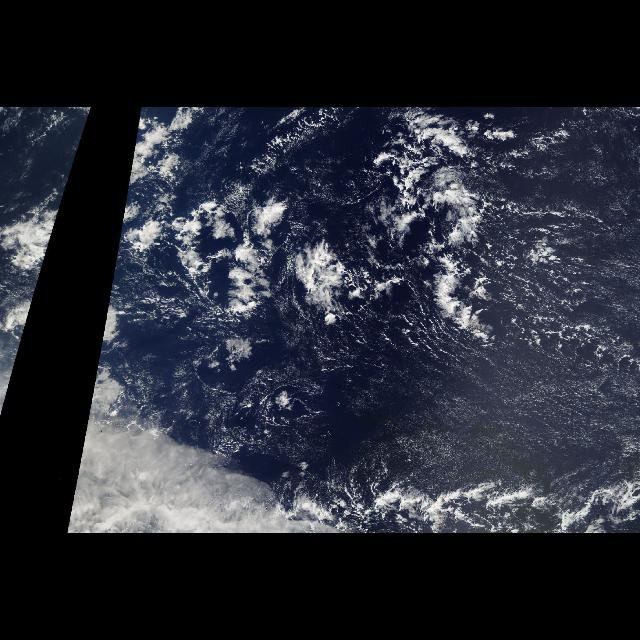Gravel: (362, 110, 640, 368), (154, 192, 306, 438)
Sugar: (300, 118, 640, 494)
